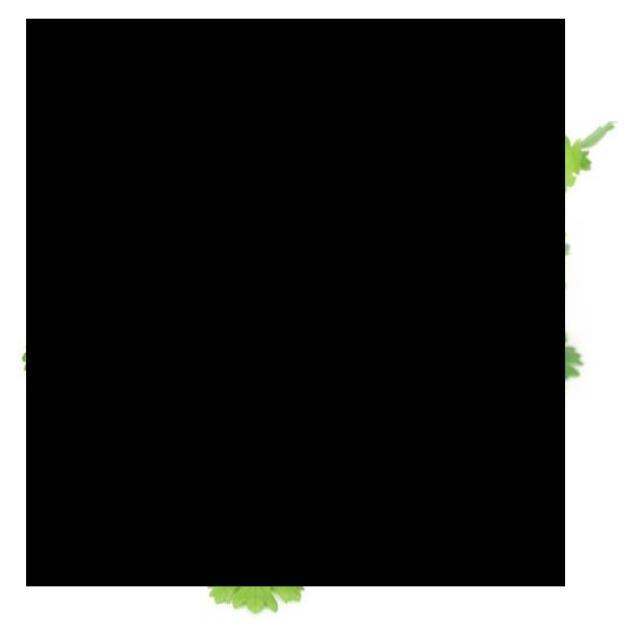Coriander: (27, 19, 566, 587)
